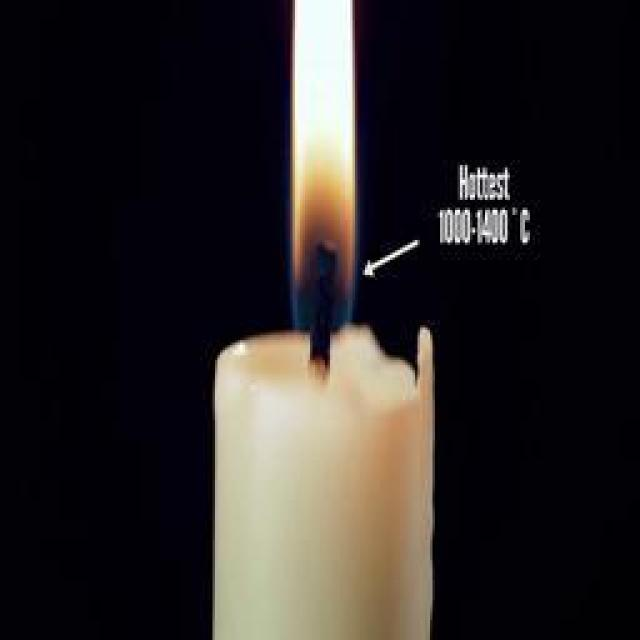Fire: (288, 2, 358, 336)
